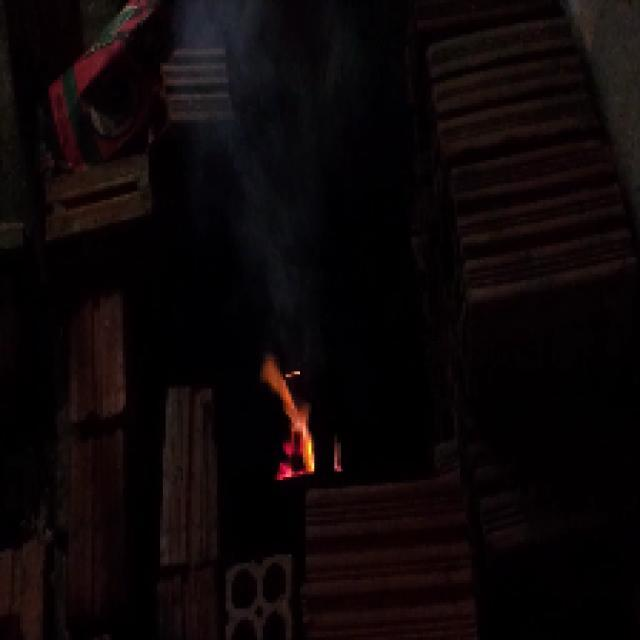Fire: (256, 358, 324, 476)
Smoke: (236, 30, 308, 342)
